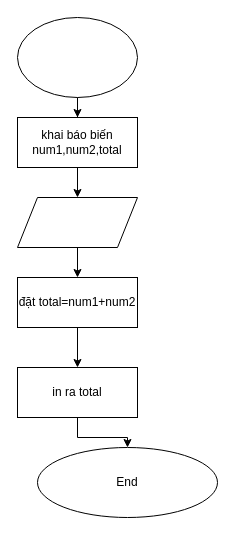
This 235x535 diagram has some shape labels left out. The centre of each missing label's shape, as x and y in pixels:
nhập giá trị num1,num2: the point at 77,222
Start: the point at 77,57
